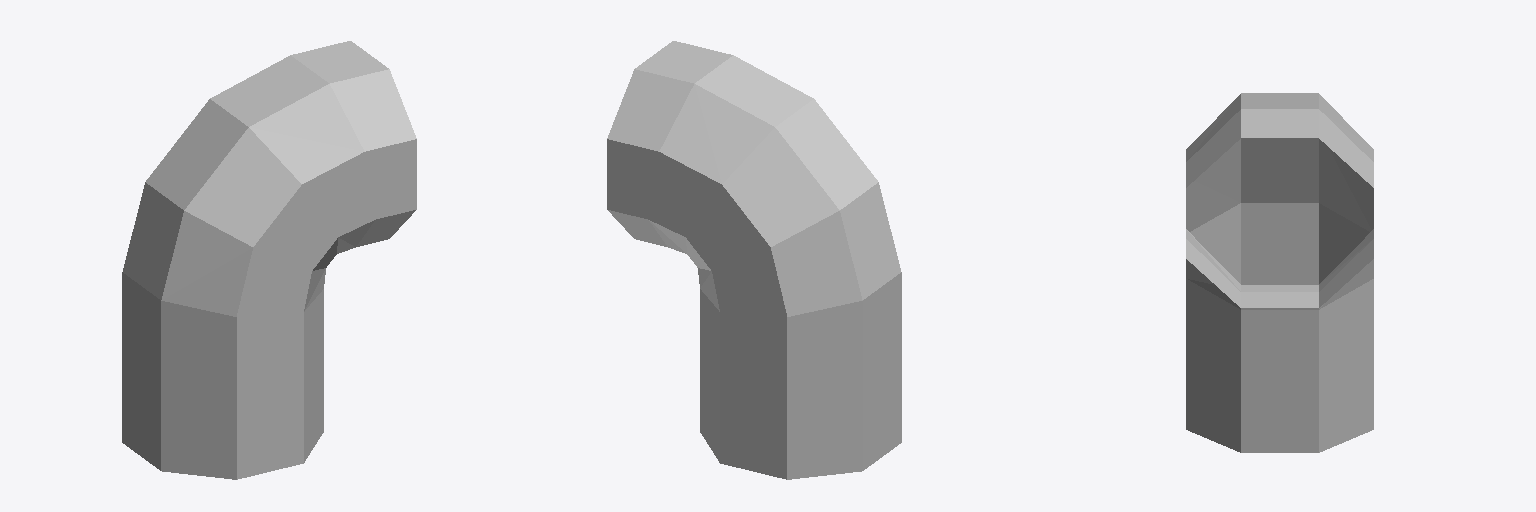
File: pipe02.obj
3 views of the same model, side by side, from view 1: azimuth 30°, elevation 25°; view 2: azimuth 150°, elevation 25°; view 3: azimuth 270°, elevation 25° (orthographic).
Visible parts, largest first — view 1: mesh01; view 2: mesh01; view 3: mesh01.
Part boxes in pixels (left/top/right/bottom): mesh01: left=122, top=41, right=416, bottom=479; mesh01: left=607, top=41, right=901, bottom=479; mesh01: left=1186, top=93, right=1373, bottom=452.
Bounding box in the file's own units: 0.9126 × 1.33 × 0.6505.